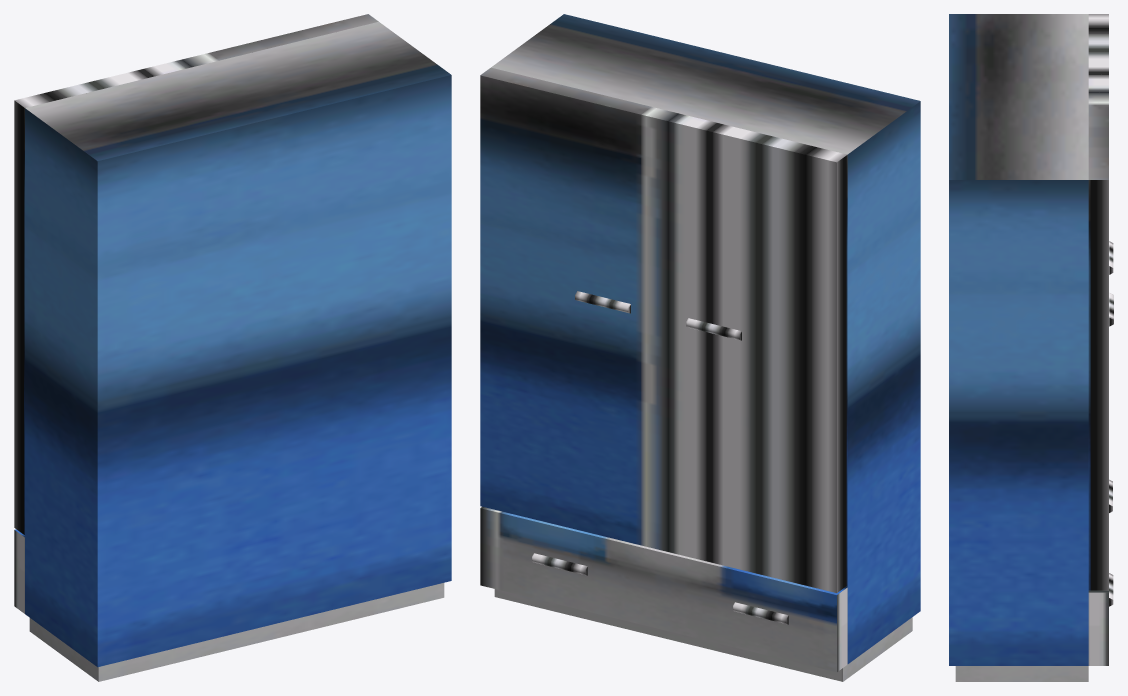
Rendered from furni_0200517.FBX.
3 views of the same model, side by side, from view 1: azimuth 30°, elevation 25°; view 2: azimuth 150°, elevation 25°; view 3: azimuth 270°, elevation 25° (orthographic). The views are drawn at different scales.
Parts seen in each view (by area): view 1: furni_0200517; view 2: furni_0200517; view 3: furni_0200517.
Part boxes in pixels (x1,y1,x2,y2): furni_0200517: (14,14,451,681); furni_0200517: (480,14,920,681); furni_0200517: (949,14,1113,681).
Bounding box in the file's own units: 155 × 220 × 65.18.
Materials: 1 (1 with a texture image).
